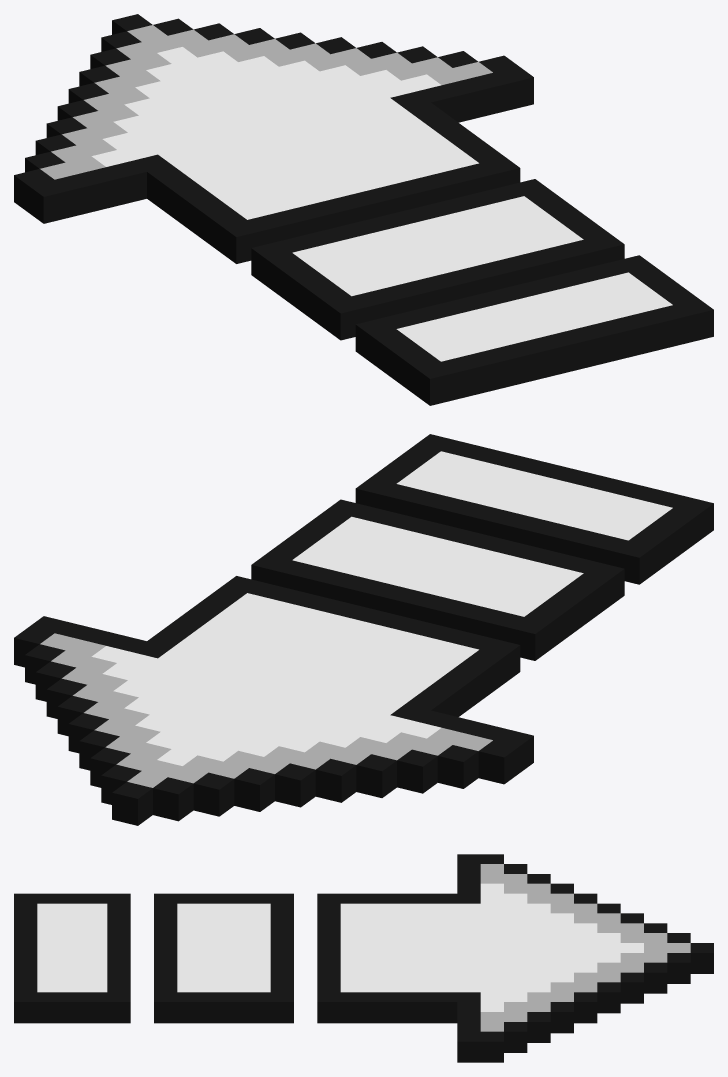
Rendered from arrow-1.obj.
The picture shows the model from 3 angles, top to bottom: view 1: azimuth 30°, elevation 25°; view 2: azimuth 150°, elevation 25°; view 3: azimuth 270°, elevation 25°; orthographic projection. The views are drawn at different scales.
Size of the model in its own units: 1.9 by 0.1 by 3.
Materials: 1 (1 with a texture image).
